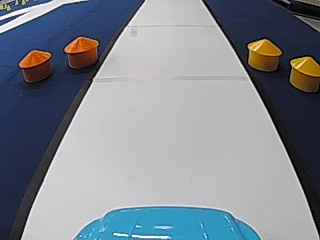granary: (245, 36, 283, 70), (63, 33, 99, 68), (286, 54, 319, 91), (17, 47, 51, 82)
